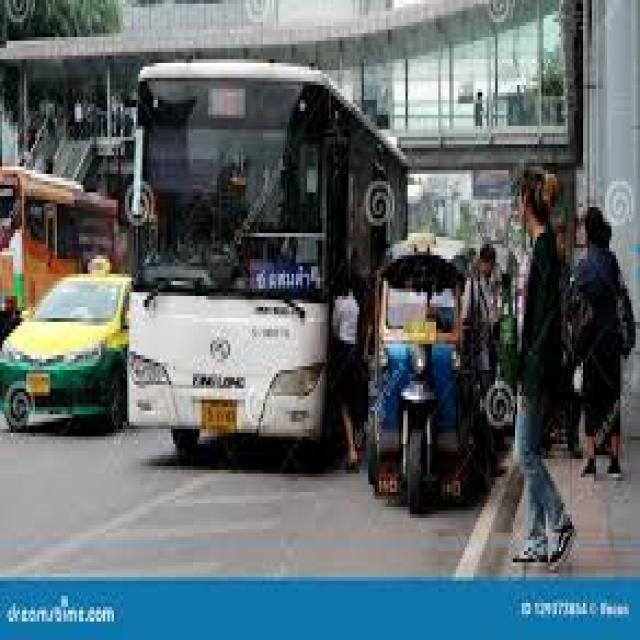bus: (124, 41, 341, 466)
tuktuk: (367, 246, 480, 546)
